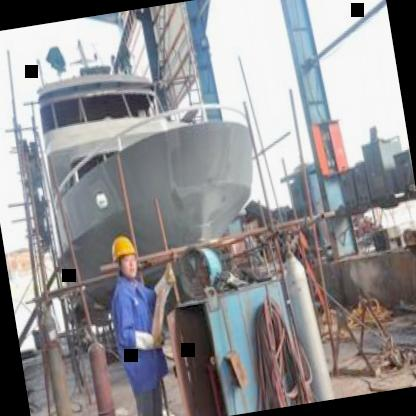helmet: (106, 230, 142, 284)
